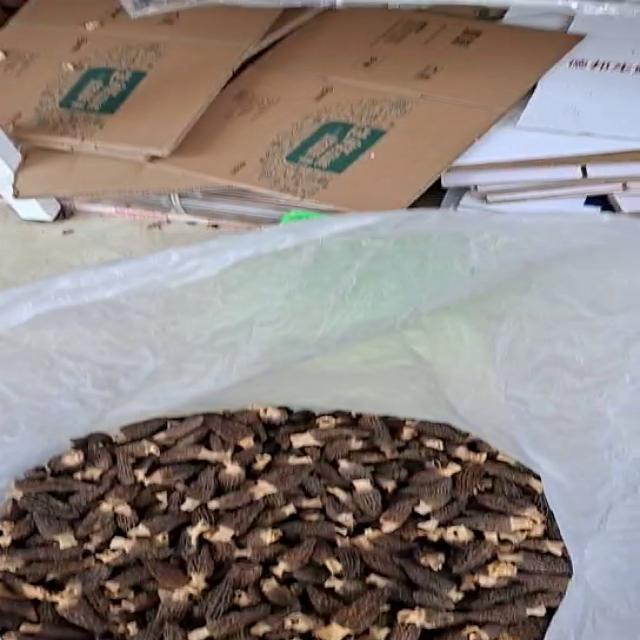Morchella esculenta: (15, 412, 560, 640)
